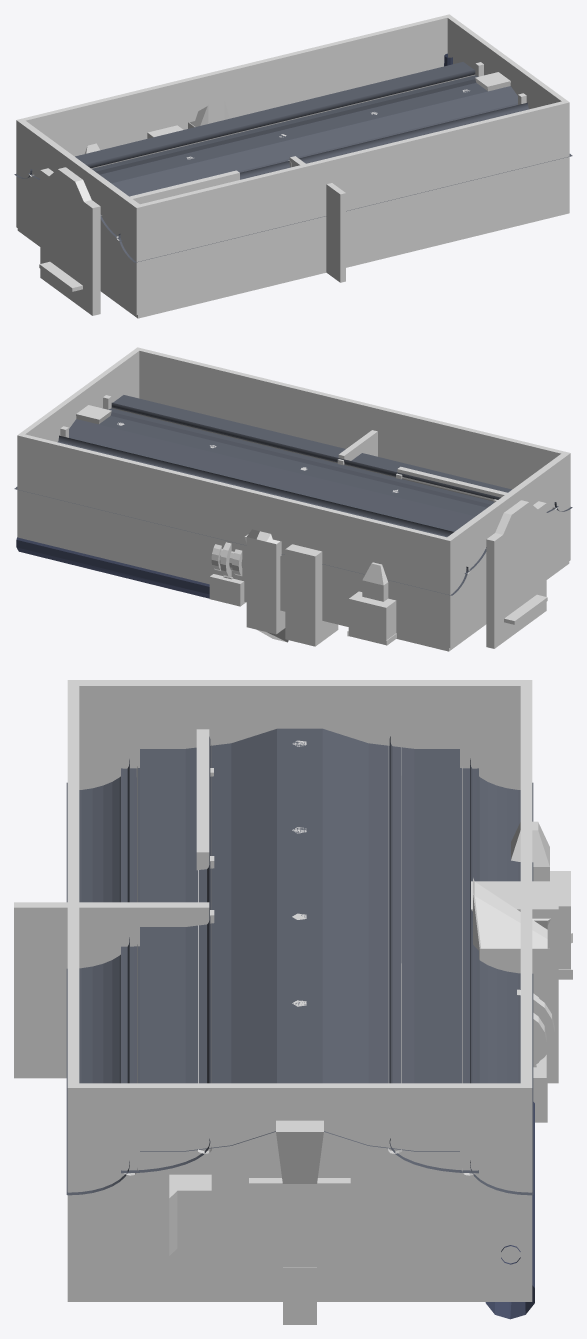
File: map_ilr.fbx
3 renders of one model, top to bottom at view 1: azimuth 30°, elevation 25°; view 2: azimuth 150°, elevation 25°; view 3: azimuth 270°, elevation 25°, orthographic. The views are drawn at different scales.
Parts seen in each view (by area): view 1: NurbsPath.002, NurbsPath.005, Plane, NurbsPath.011, ceil 1, middle wall, corridor wall, mueble 2.001, ceil mid, floor of exit, NurbsPath.001, screen support; view 2: NurbsPath.002, NurbsPath.005, Plane, NurbsPath.011, ceil 1, mueble 2, mueble 2.001, mueble 1, NurbsPath.004, corridor wall, Cube.003, Cube.002 (+5 smaller); view 3: NurbsPath.005, Plane, NurbsPath.001, NurbsPath.002, middle wall, ceil 1, screen, mueble 2.001, mueble 2, wall consol, mueble 1, screen support (+5 smaller).
Part boxes in pixels (x1,y1,x2,y2): NurbsPath.002: (17,14,569,318); NurbsPath.005: (16,14,568,315); Plane: (75,62,529,196); NurbsPath.011: (40,167,100,315); ceil 1: (28,69,528,240); middle wall: (289,156,345,282); corridor wall: (129,170,239,204); mueble 2.001: (188,100,229,128); ceil mid: (91,74,475,168); floor of exit: (39,261,82,291); NurbsPath.001: (14,154,572,262); screen support: (475,72,510,91); NurbsPath.002: (17,347,569,651); NurbsPath.005: (18,347,570,648); Plane: (57,395,511,537); NurbsPath.011: (486,500,546,648); ceil 1: (58,402,558,573); mueble 2: (285,544,338,646); mueble 2.001: (244,529,288,642); mueble 1: (347,562,396,645); NurbsPath.004: (16,537,209,598); corridor wall: (397,466,507,500); Cube.003: (209,574,245,606); Cube.002: (211,542,242,577); NurbsPath.005: (67,680,532,1294); Plane: (140,728,459,1151); NurbsPath.001: (66,758,533,1195); NurbsPath.002: (67,681,532,1301); middle wall: (14,902,209,1078); ceil 1: (121,736,478,1173); screen: (249,1178,350,1269); mueble 2.001: (473,878,550,1122); mueble 2: (471,881,558,1083); wall consol: (169,1174,211,1255); mueble 1: (511,821,572,979); screen support: (276,1120,323,1183).
Bounding box in the file's own units: 1679 × 521 × 879.
